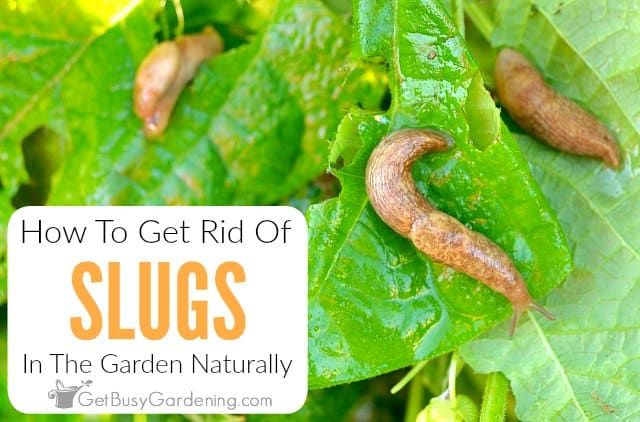slug: (367, 124, 553, 332), (496, 47, 621, 172), (131, 27, 225, 136)
